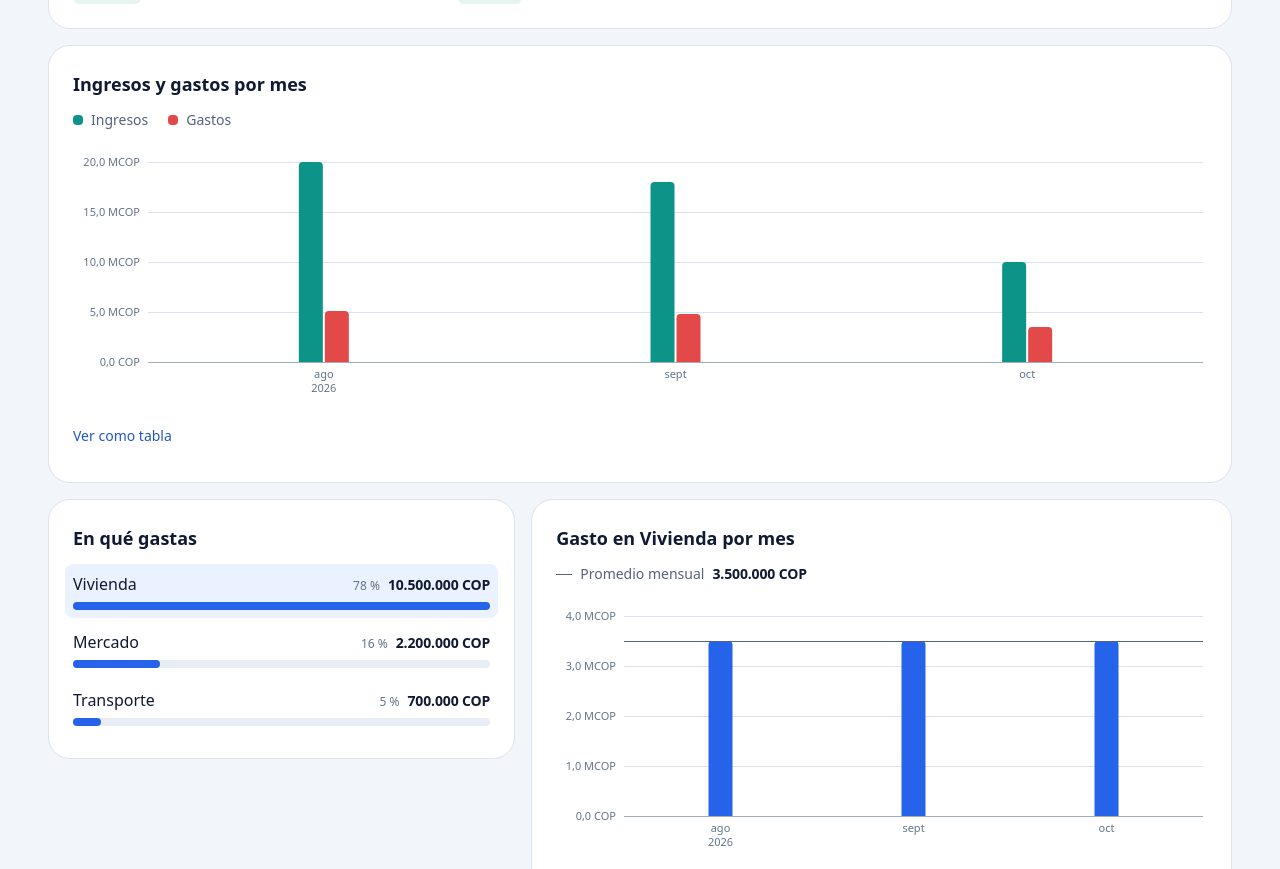
Test case: Reportes › charts income and spending per month, with the same figures as a table
(page scrolled)
Step 1. Click the 1st button "Ver como tabla" → [122, 436], box [65,414,180,458]
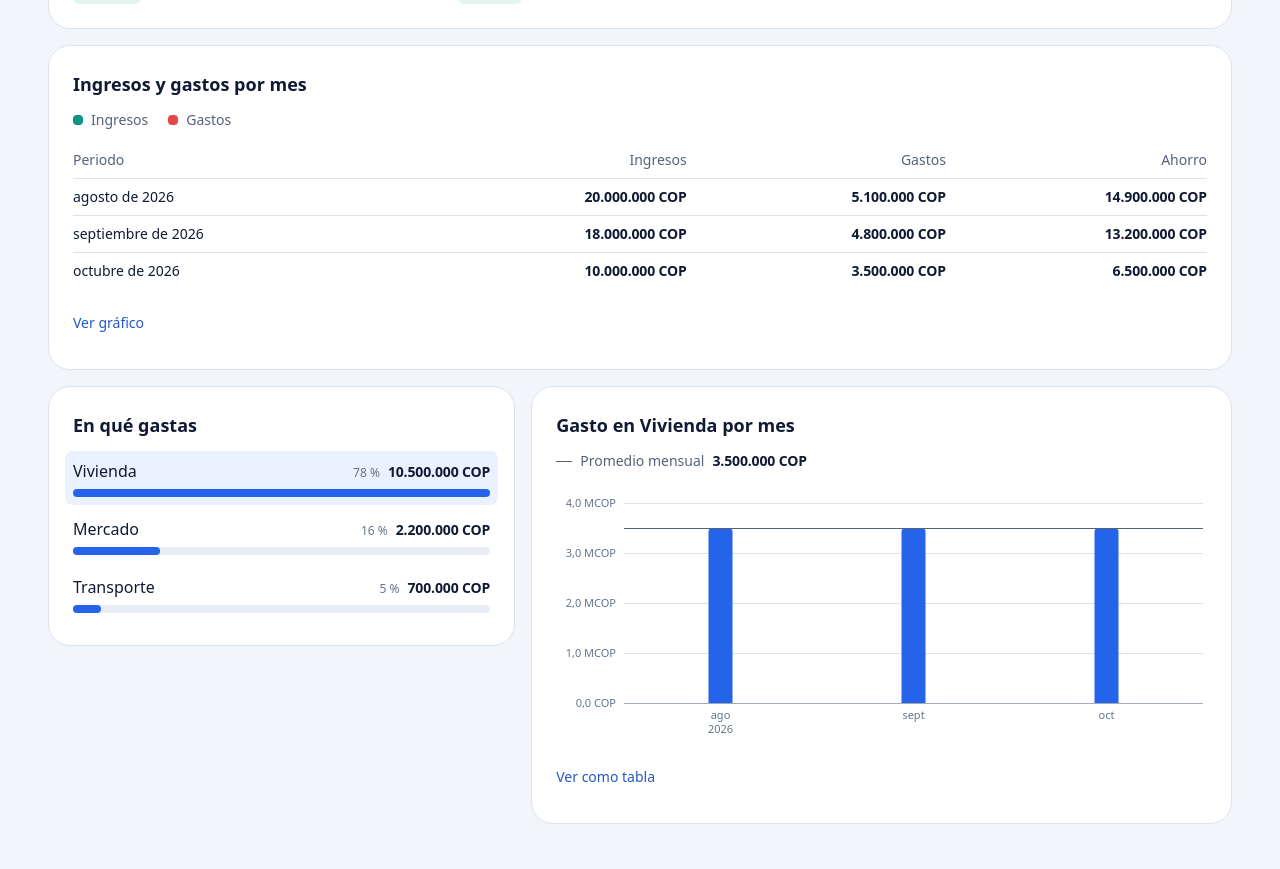
Now the number of rows is 4, box [73,142,1207,178]; [73,179,1207,216]; [73,216,1207,252]; [73,252,1207,289]
Now the row that starts with "septiembre de 2026" reads "septiembre de 2026 18.000.000 COP 4.800.000 COP 13.200.000 COP", box [73,216,1207,252]
